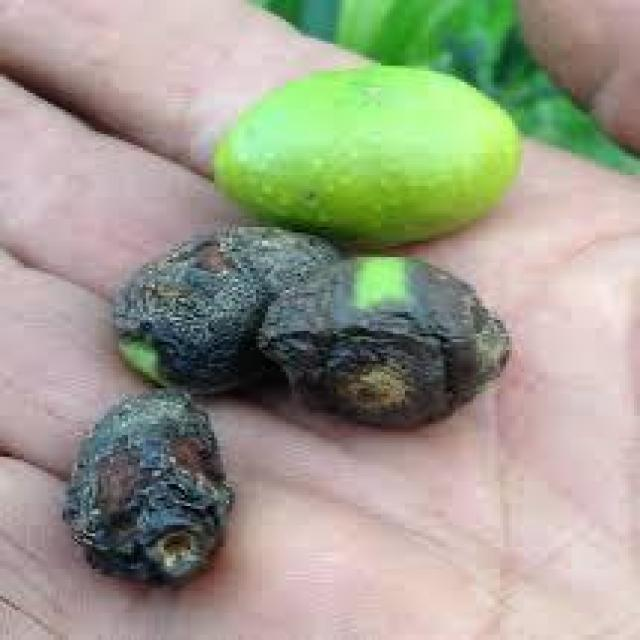Healthy: (214, 66, 518, 249)
Olive Fruit Fly: (259, 257, 506, 429), (113, 224, 336, 394), (63, 386, 232, 586)
